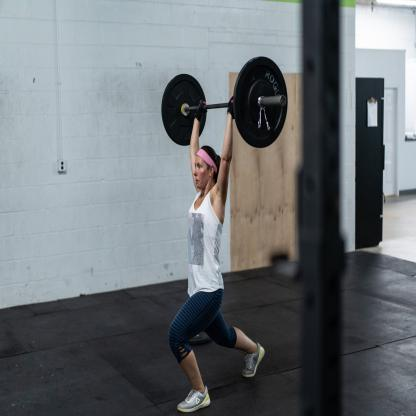Barbell: (231, 48, 292, 154)
